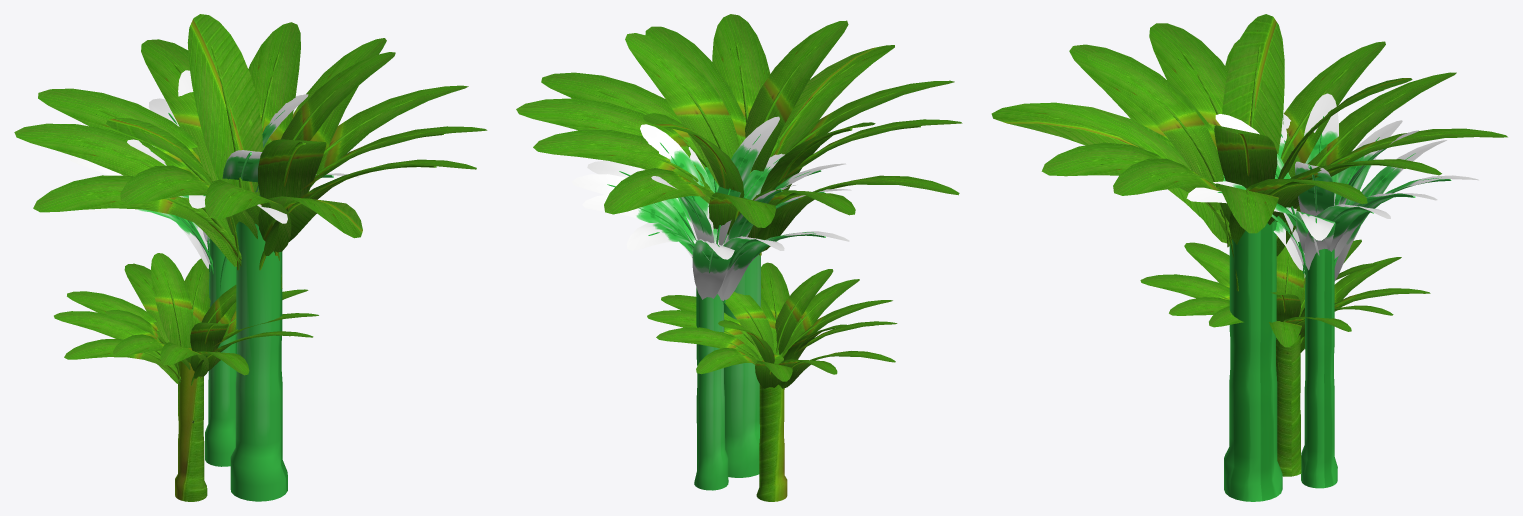
File: banana.fbx
3 renders of one model, left to right at view 1: azimuth 30°, elevation 25°; view 2: azimuth 150°, elevation 25°; view 3: azimuth 270°, elevation 25°, orthographic. The views are drawn at different scales.
Parts seen in each view (by area): view 1: pCylinder6, polySurface9, polySurface18, polySurface32, polySurface42, polySurface16, polySurface38, polySurface36, polySurface22, polySurface26, polySurface13, polySurface11 (+10 smaller); view 2: pCylinder6, polySurface13, polySurface9, polySurface42, polySurface26, polySurface40, polySurface16, polySurface30, polySurface20, polySurface11, polySurface22, polySurface15 (+19 smaller); view 3: polySurface9, pCylinder6, polySurface42, polySurface30, polySurface34, polySurface26, polySurface28, polySurface32, polySurface36, polySurface40, polySurface13, polySurface15 (+15 smaller).
Part boxes in pixels (box(x1,y1,x2,y2)): pCylinder6: box(54, 253, 318, 501); polySurface9: box(230, 221, 287, 501); polySurface18: box(187, 14, 262, 192); polySurface32: box(14, 123, 236, 266); polySurface42: box(205, 238, 236, 466); polySurface16: box(248, 22, 300, 195); polySurface38: box(33, 175, 239, 262); polySurface36: box(38, 88, 206, 179); polySurface22: box(141, 39, 218, 184); polySurface26: box(258, 139, 326, 199); polySurface13: box(281, 52, 395, 140); polySurface11: box(310, 85, 468, 187); pCylinder6: box(647, 262, 897, 501); polySurface13: box(625, 33, 739, 185); polySurface9: box(724, 255, 760, 477); polySurface42: box(694, 287, 728, 490); polySurface26: box(745, 20, 848, 171); polySurface40: box(712, 14, 779, 152); polySurface16: box(533, 130, 710, 203); polySurface30: box(772, 45, 894, 156); polySurface20: box(516, 98, 690, 157); polySurface11: box(541, 72, 705, 169); polySurface22: box(604, 168, 735, 214); polySurface15: box(645, 26, 746, 145); polySurface9: box(1224, 220, 1282, 501); pCylinder6: box(1140, 239, 1430, 476); polySurface42: box(1301, 248, 1337, 488); polySurface30: box(991, 102, 1227, 239); polySurface34: box(1222, 14, 1284, 154); polySurface26: box(1087, 52, 1223, 209); polySurface28: box(1149, 23, 1228, 132); polySurface32: box(1281, 41, 1385, 177); polySurface36: box(1276, 72, 1456, 256); polySurface40: box(1041, 142, 1228, 236); polySurface13: box(1214, 125, 1277, 188); polySurface15: box(1113, 158, 1221, 195).
Size of the model in its own units: 16.16 by 14.86 by 16.38.
Materials: 6 (6 with a texture image).
